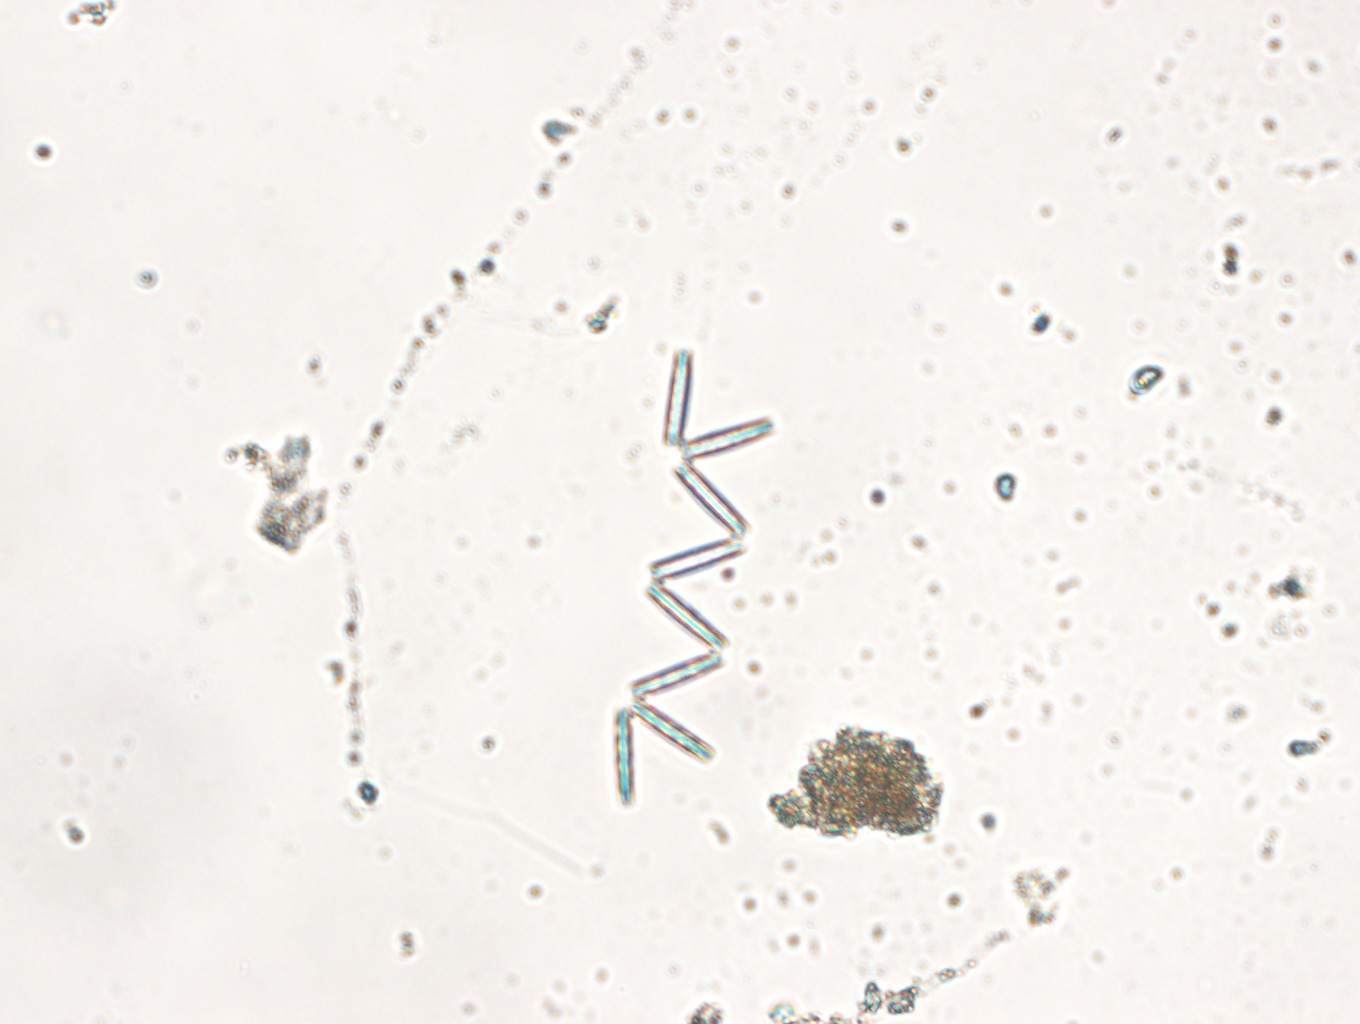thalassionema nitzschioides: (609, 347, 776, 806)
